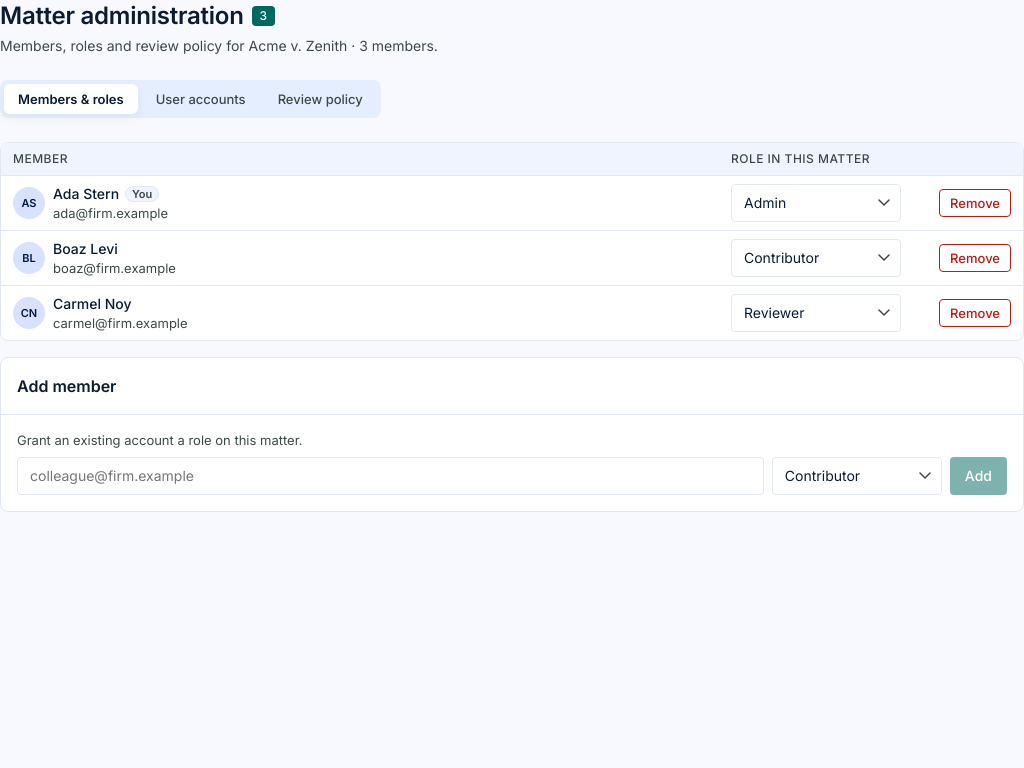
Test: AdminPage › renders the read-only review policy reference on the second tab
Expected: the text "Boaz Levi" is shown, [53, 240, 118, 257]
Click the tab "Review policy" at coordinates (320, 99), box [264, 84, 377, 114]
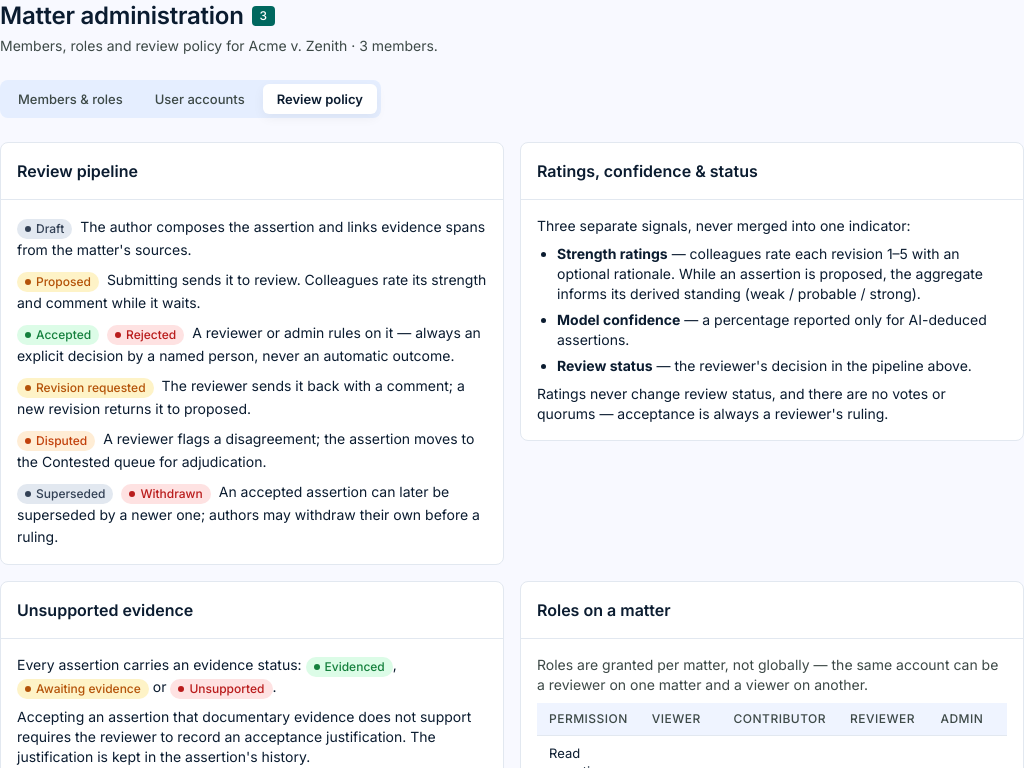
Expected: the text "Ratings never change review status" is shown, [537, 385, 946, 422]
Expected: the text "record an acceptance justification" is shown, [17, 708, 471, 765]
